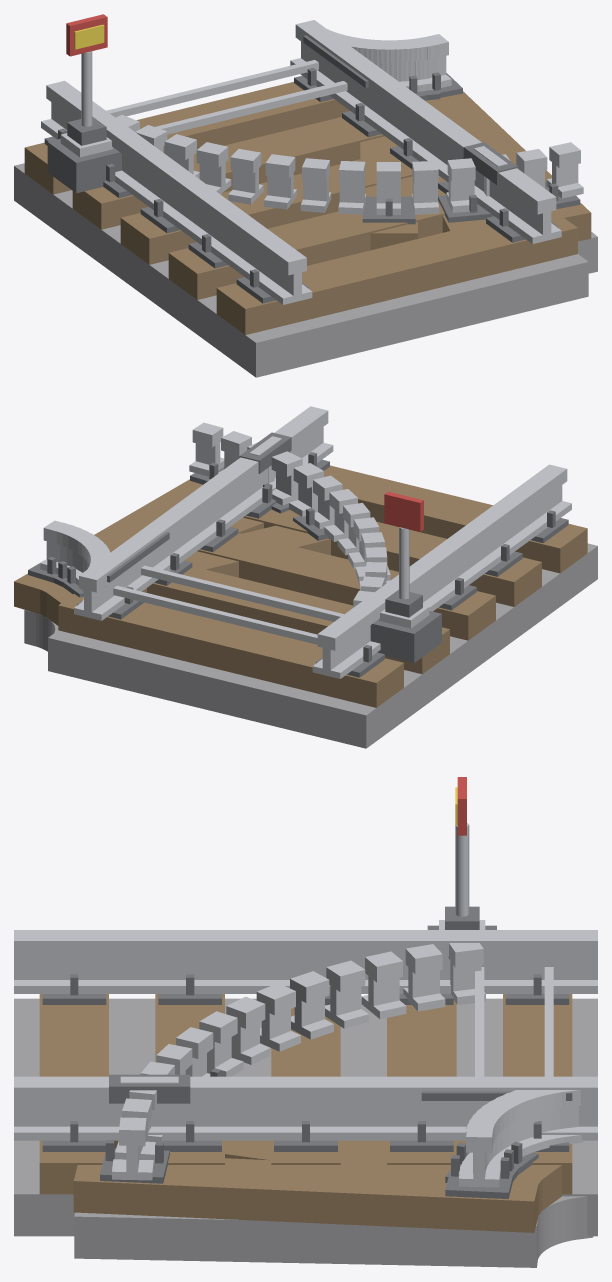
The model's file is rail_switch_right.glb.
3 views of the same model, one above another, from view 1: azimuth 30°, elevation 25°; view 2: azimuth 150°, elevation 25°; view 3: azimuth 270°, elevation 25° (orthographic). The views are drawn at different scales.
Parts seen in each view (by area): view 1: rail, switch_lever; view 2: rail, switch_lever; view 3: rail, switch_lever.
Boxes of the visible parts, x1,y1,x2,y2 form: rail: [14, 20, 597, 377]; switch_lever: [66, 14, 107, 145]; rail: [14, 406, 597, 748]; switch_lever: [384, 491, 423, 617]; rail: [14, 920, 597, 1267]; switch_lever: [445, 777, 479, 929].
Size of the model in its own units: 0.9692 by 0.504 by 1.01.
